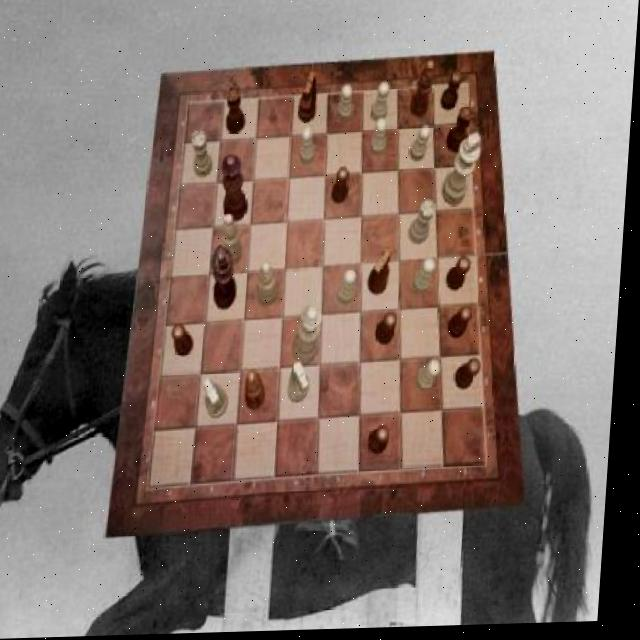bishop: (411, 62, 435, 120), (250, 372, 273, 412)
black-bishop: (212, 245, 242, 311)
black-king: (371, 252, 396, 298), (300, 72, 321, 125)
black-knight: (450, 258, 475, 293), (441, 75, 463, 114), (452, 308, 477, 341), (175, 326, 200, 359), (461, 362, 487, 393), (378, 315, 400, 348), (333, 170, 352, 206), (373, 429, 396, 457)
black-pawn: (220, 157, 253, 225)
black-queen: (447, 109, 475, 157), (226, 88, 249, 136)
black-rook: (223, 214, 249, 267), (261, 264, 283, 308)
white-bishop: (443, 135, 483, 209)
white-king: (207, 379, 235, 421), (291, 363, 316, 405)
white-knight: (415, 260, 440, 297), (419, 361, 445, 394), (411, 128, 433, 165), (371, 85, 391, 125), (341, 271, 361, 308), (301, 128, 319, 167), (339, 87, 357, 125), (371, 120, 388, 159)
white-pawn: (296, 306, 326, 367)
white-queen: (409, 204, 438, 248), (190, 132, 216, 178)
